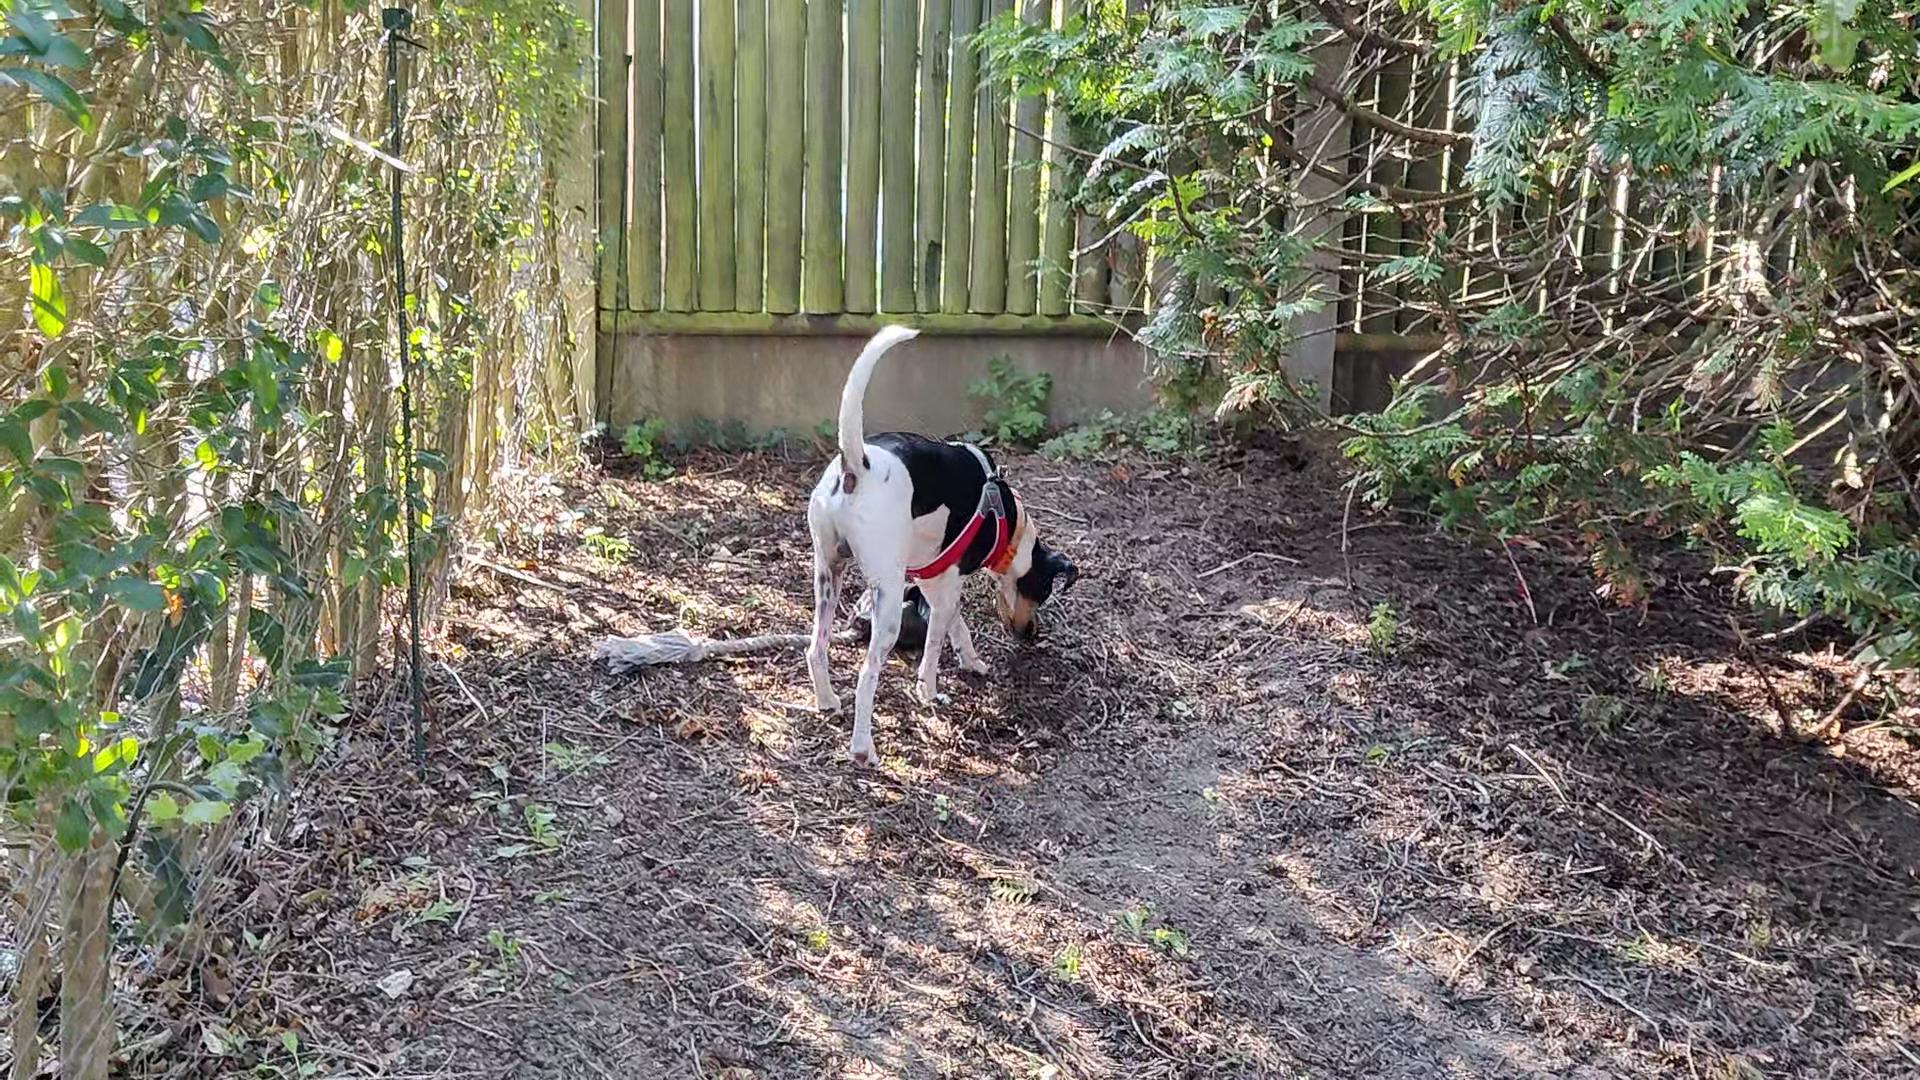Dog: (800, 309, 1089, 778)
